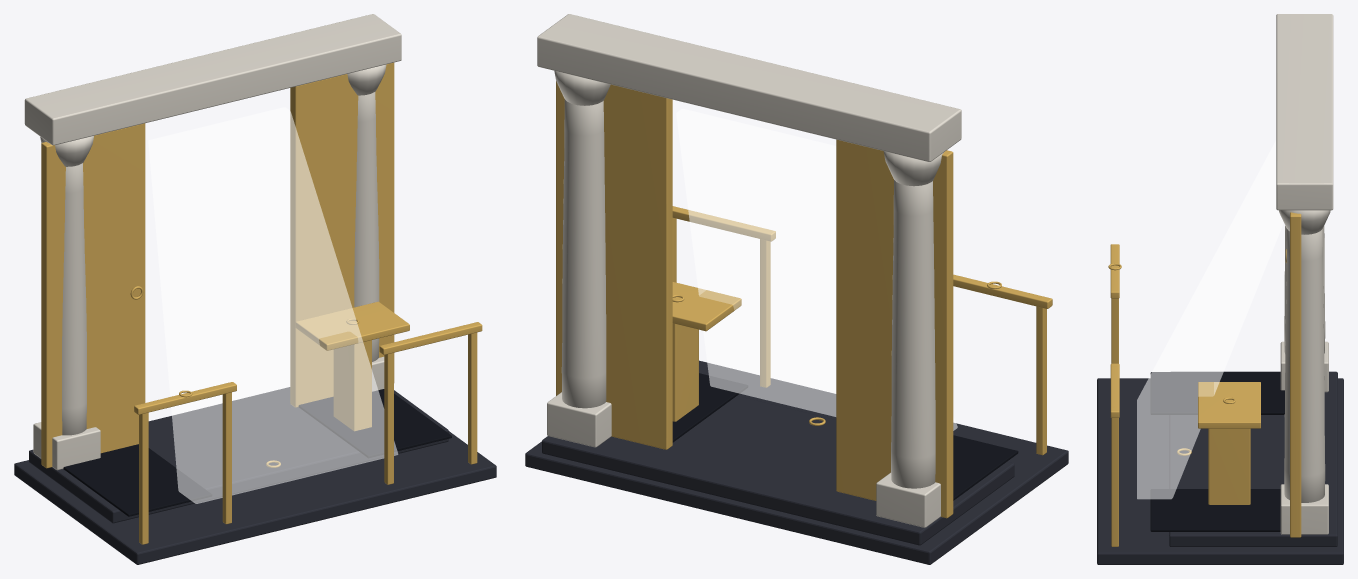
File: webtoon-slit-godray-breakthrough-65pct-v21.glb
3 renders of one model, left to right at view 1: azimuth 30°, elevation 25°; view 2: azimuth 150°, elevation 25°; view 3: azimuth 270°, elevation 25°, orthographic. The views are drawn at different scales.
Parts seen in each view (by area): view 1: Volumetric_Beat2_65Pct_GodRaySlit, Articulated_Beat2_65Pct_DoorsAndIkRig, Beat2_65Pct_PortalColonnade, Beat2_65Pct_DatumDeck, ShadowDrift_Beat2_65Pct_UmbraMask; view 2: Articulated_Beat2_65Pct_DoorsAndIkRig, Beat2_65Pct_PortalColonnade, Volumetric_Beat2_65Pct_GodRaySlit, Beat2_65Pct_DatumDeck, ShadowDrift_Beat2_65Pct_UmbraMask; view 3: Beat2_65Pct_DatumDeck, Beat2_65Pct_PortalColonnade, Volumetric_Beat2_65Pct_GodRaySlit, Articulated_Beat2_65Pct_DoorsAndIkRig, ShadowDrift_Beat2_65Pct_UmbraMask.
Boxes of the visible parts, left/top/right/bottom form: Volumetric_Beat2_65Pct_GodRaySlit: left=148, top=107, right=397, bottom=503; Articulated_Beat2_65Pct_DoorsAndIkRig: left=41, top=62, right=482, bottom=544; Beat2_65Pct_PortalColonnade: left=24, top=14, right=401, bottom=470; Beat2_65Pct_DatumDeck: left=14, top=387, right=496, bottom=564; ShadowDrift_Beat2_65Pct_UmbraMask: left=63, top=389, right=451, bottom=516; Articulated_Beat2_65Pct_DoorsAndIkRig: left=556, top=81, right=1052, bottom=518; Beat2_65Pct_PortalColonnade: left=537, top=14, right=961, bottom=527; Volumetric_Beat2_65Pct_GodRaySlit: left=676, top=109, right=957, bottom=430; Beat2_65Pct_DatumDeck: left=525, top=360, right=1068, bottom=564; ShadowDrift_Beat2_65Pct_UmbraMask: left=672, top=373, right=1018, bottom=500; Beat2_65Pct_DatumDeck: left=1097, top=371, right=1343, bottom=564; Beat2_65Pct_PortalColonnade: left=1276, top=14, right=1333, bottom=534; Volumetric_Beat2_65Pct_GodRaySlit: left=1137, top=140, right=1283, bottom=499; Articulated_Beat2_65Pct_DoorsAndIkRig: left=1108, top=212, right=1301, bottom=546; ShadowDrift_Beat2_65Pct_UmbraMask: left=1150, top=372, right=1284, bottom=531.
Bounding box in the file's own units: 2.76 × 2.78 × 1.64.
